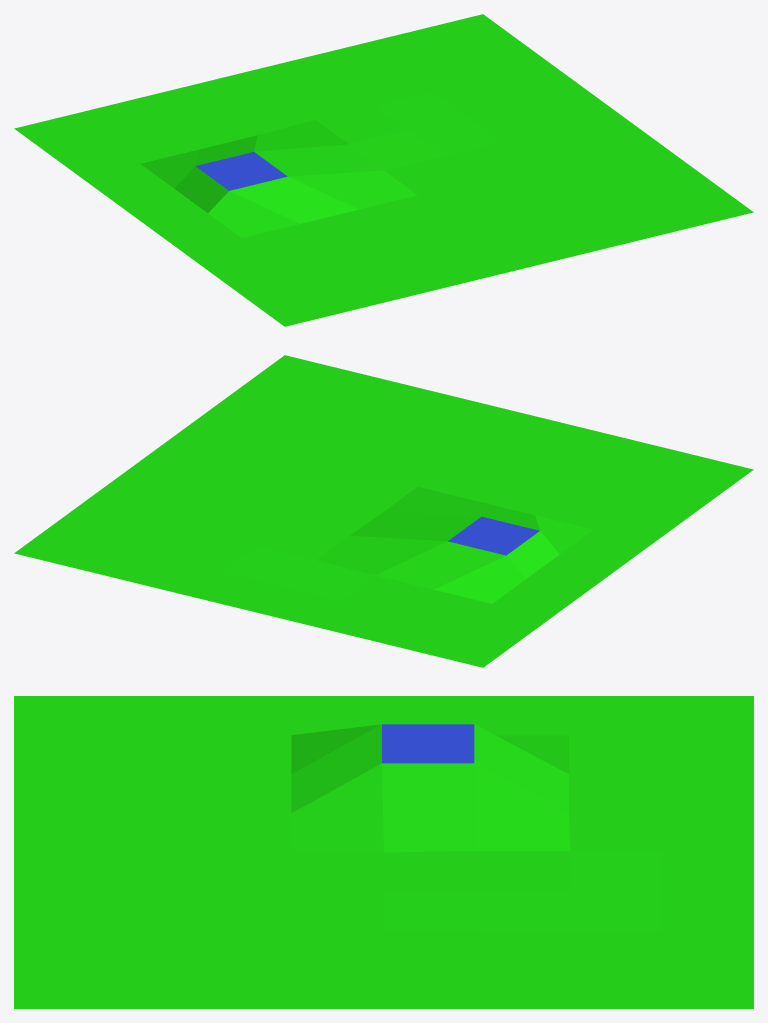
3 renders of one model, top to bottom at view 1: azimuth 30°, elevation 25°; view 2: azimuth 150°, elevation 25°; view 3: azimuth 270°, elevation 25°, orthographic. The views are drawn at different scales.
Parts seen in each view (by area): view 1: Plane.001, Plane; view 2: Plane.001, Plane; view 3: Plane.001, Plane.
Part boxes in pixels (x1,y1,x2,y2): Plane.001: [14, 14, 753, 326]; Plane: [195, 152, 287, 190]; Plane.001: [14, 355, 753, 667]; Plane: [448, 516, 539, 555]; Plane.001: [14, 696, 753, 1008]; Plane: [382, 724, 474, 763].
Size of the model in its own units: 2 by 0.0735 by 2.
